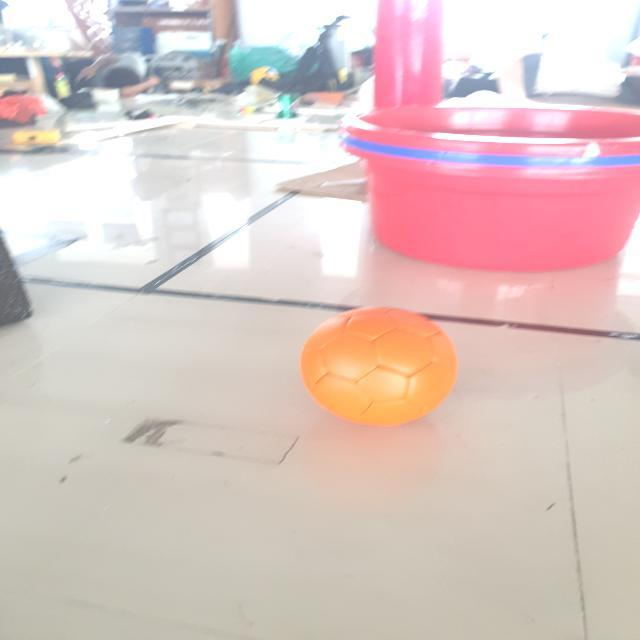bola: (294, 304, 466, 434)
